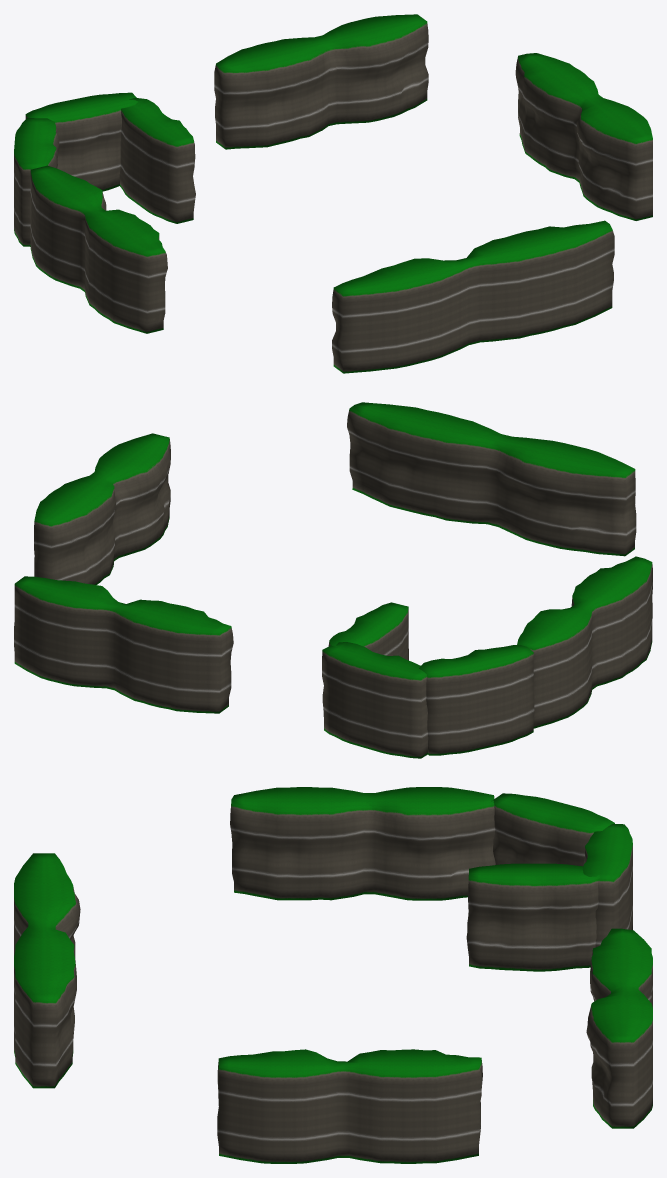
Rendered from walls.fbx.
3 views of the same model, one above another, from view 1: azimuth 30°, elevation 25°; view 2: azimuth 150°, elevation 25°; view 3: azimuth 270°, elevation 25° (orthographic). The views are drawn at different scales.
Visible parts, largest first — view 1: Cube; view 2: Cube; view 3: Cube.
Boxes of the visible parts, bbox=[...] form: Cube: bbox=[14, 14, 652, 373]; Cube: bbox=[14, 402, 652, 758]; Cube: bbox=[14, 787, 652, 1163].
Bounding box in the file's own units: 126 × 18.12 × 118.
4 materials, 4 textured.
